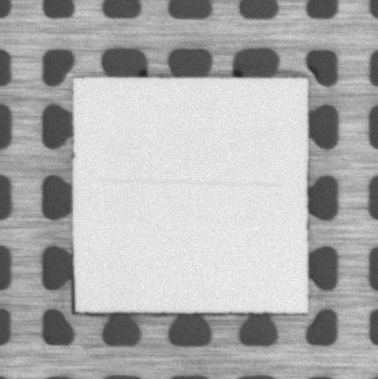DIE_CRACK: (96, 180, 280, 185)
